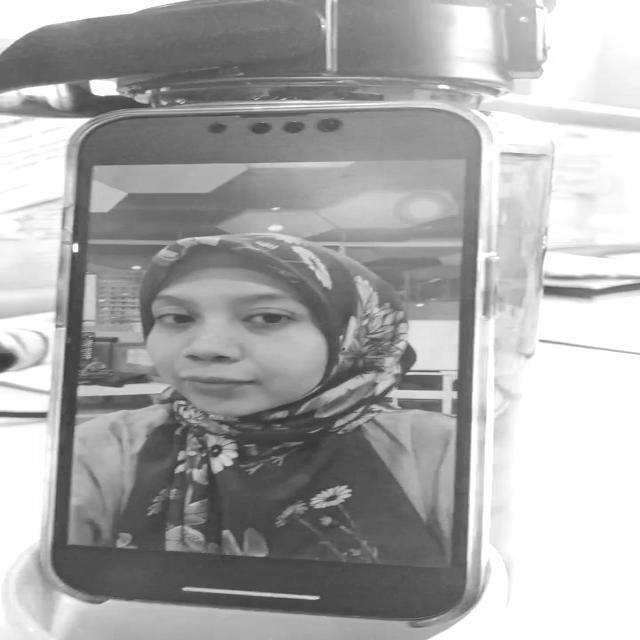fake: (46, 94, 500, 626)
